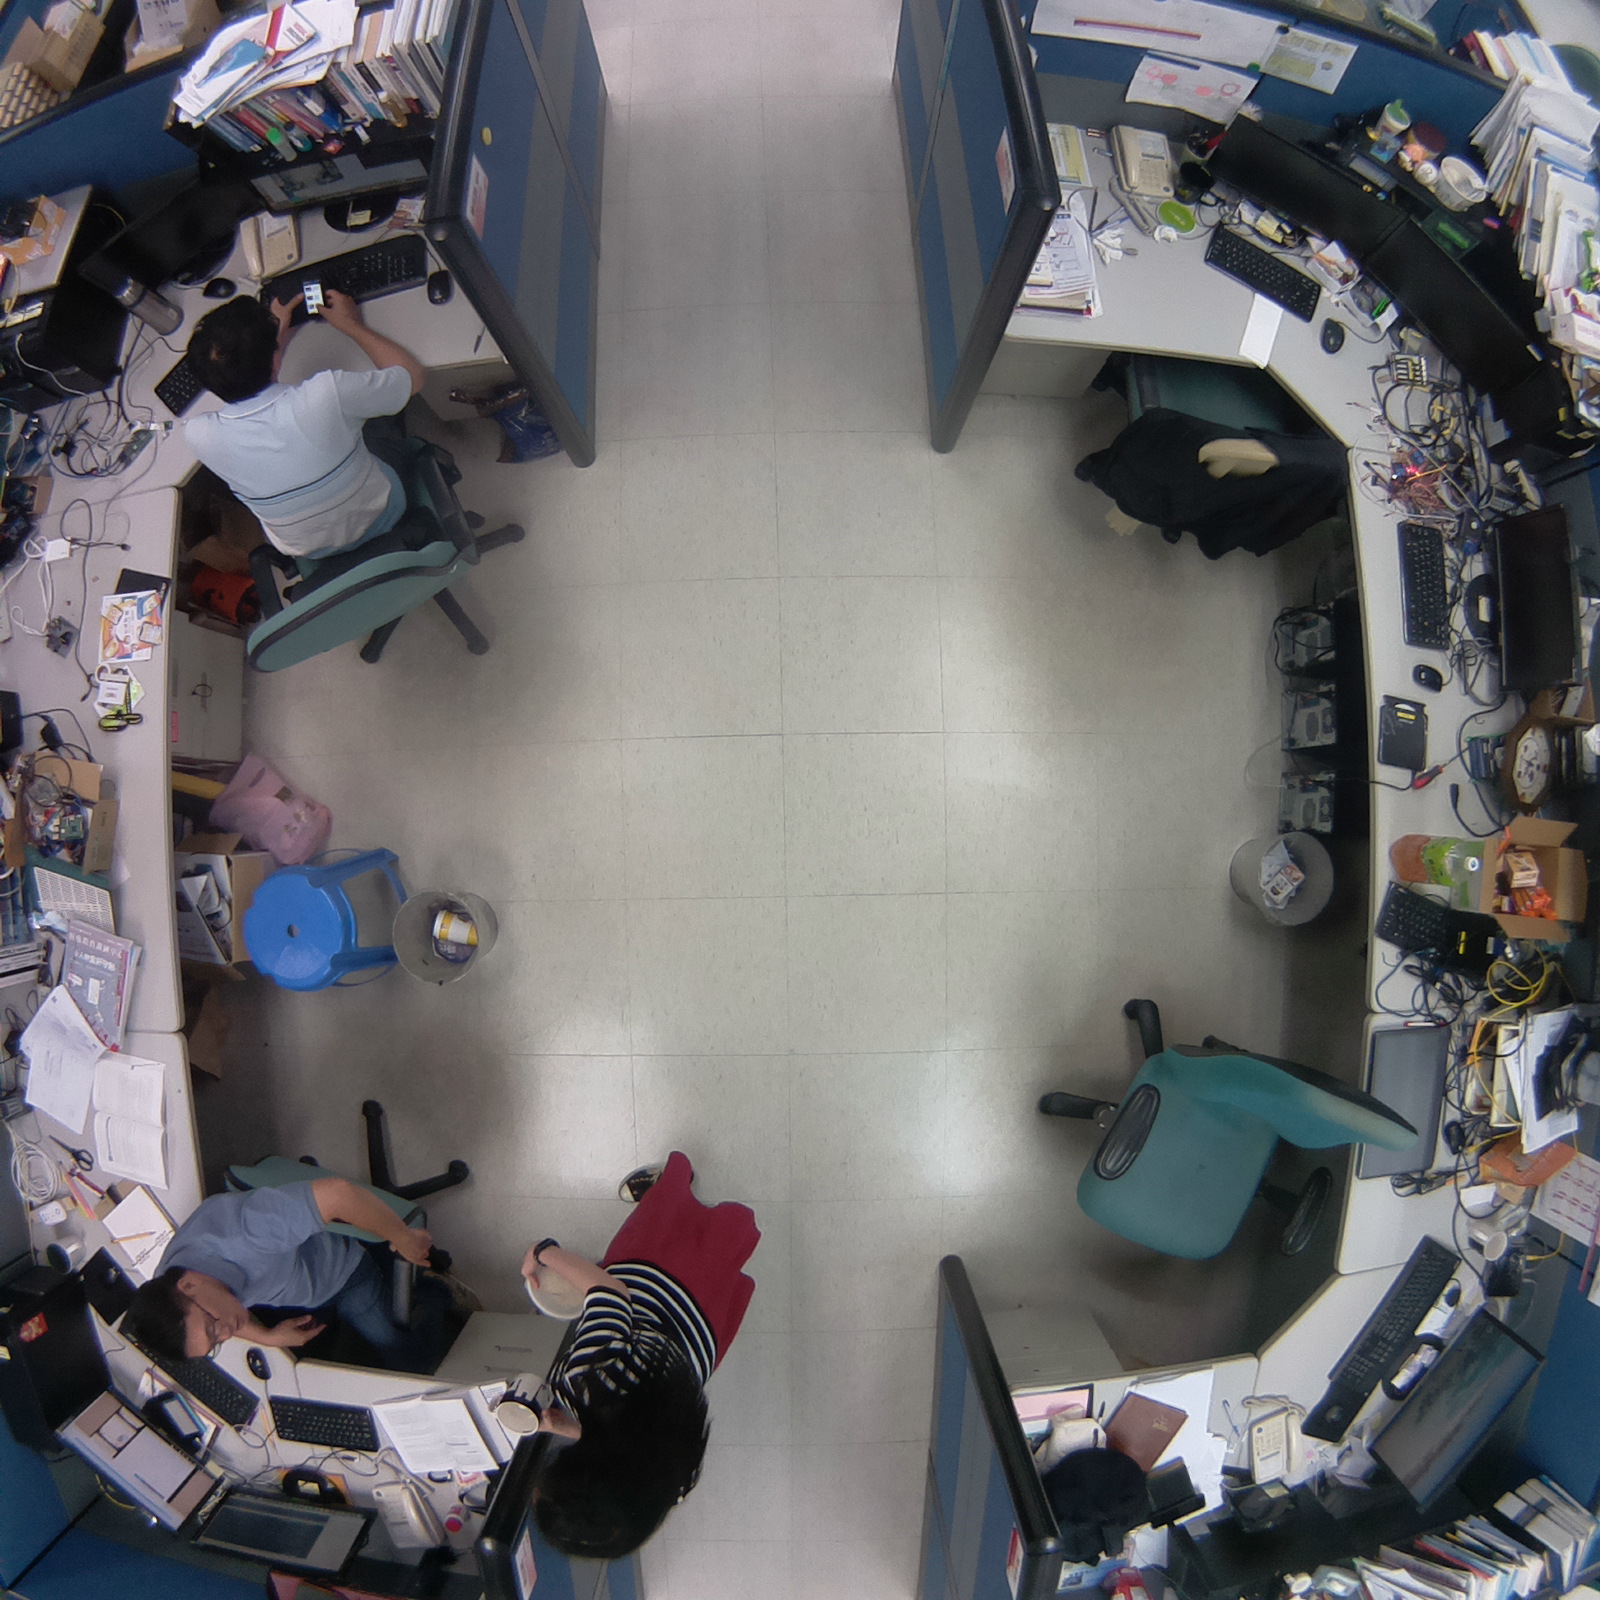chair: (999, 970, 1429, 1288), (1045, 322, 1373, 583)
head: (526, 1398, 697, 1569), (172, 287, 292, 400), (123, 1263, 246, 1371)
sitting: (168, 286, 540, 699), (122, 1091, 481, 1375)
standing: (504, 1127, 783, 1561)
